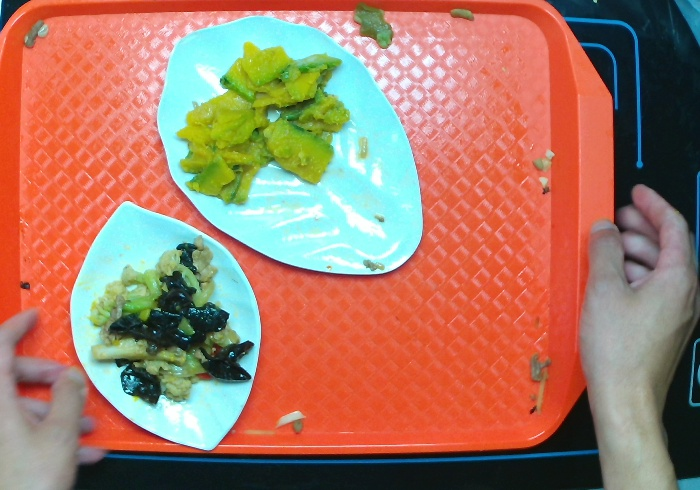RJxy-Bai_Ye_Pan: (158, 16, 424, 281)
RJxy-Da_Du_Pan: (62, 194, 268, 451)
